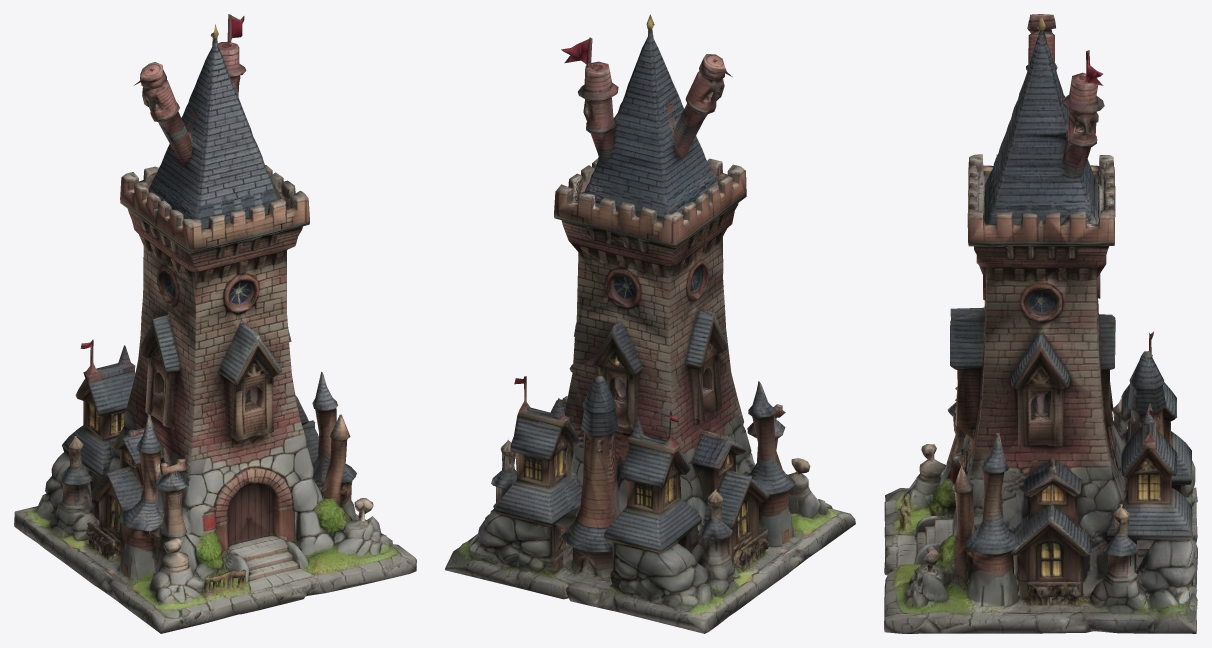
The model's file is tower-round.glb.
3 renders of one model, left to right at view 1: azimuth 30°, elevation 25°; view 2: azimuth 150°, elevation 25°; view 3: azimuth 270°, elevation 25°, orthographic. The views are drawn at different scales.
Visible parts, largest first — view 1: Mesh1.0; view 2: Mesh1.0; view 3: Mesh1.0.
Part boxes in pixels (bbox=[...]): Mesh1.0: bbox=[14, 14, 416, 633]; Mesh1.0: bbox=[445, 14, 855, 633]; Mesh1.0: bbox=[884, 14, 1197, 633].
Size of the model in its own units: 0.9774 by 1.9 by 0.9761.
Materials: 1 (1 with a texture image).
